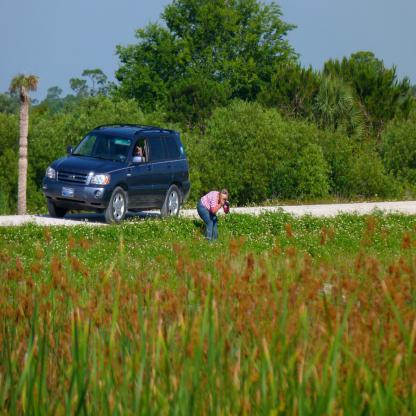Car: (42, 124, 190, 226)
